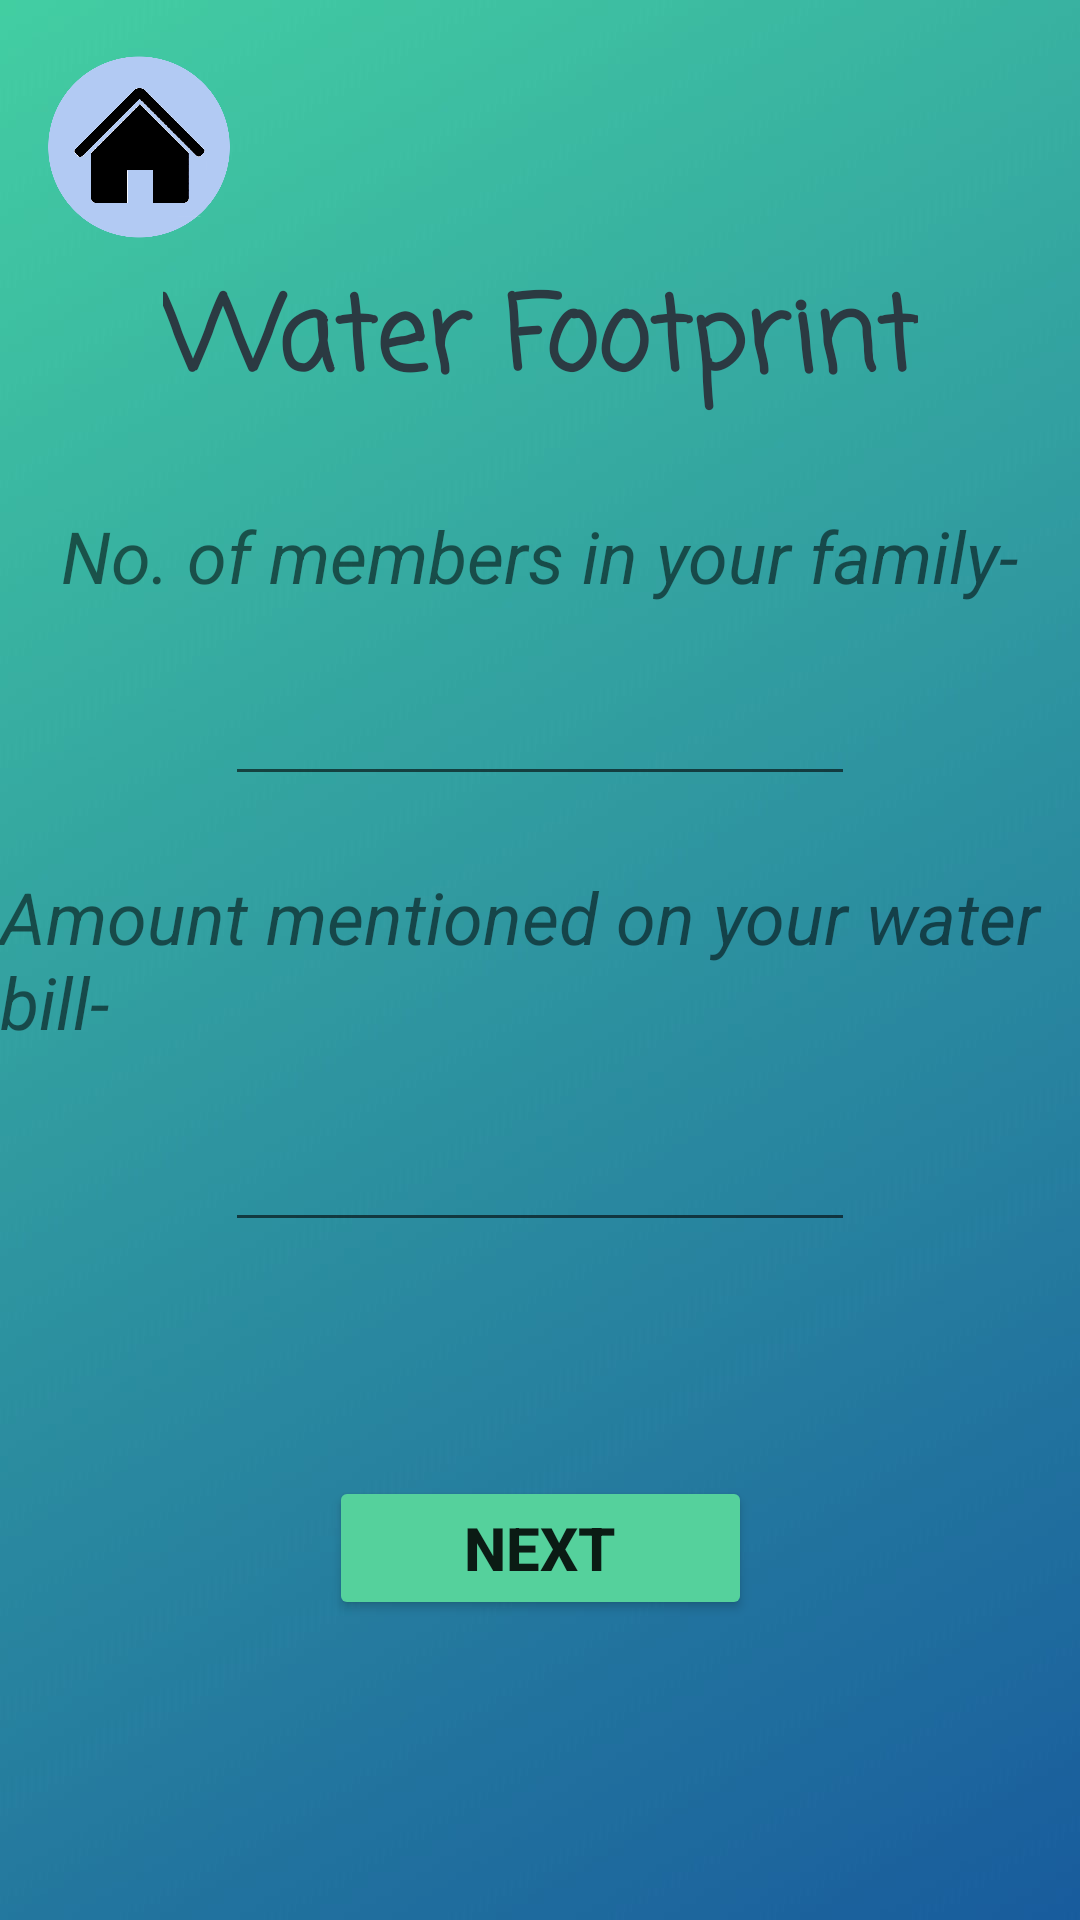

Icons on this 1080*1920 Android screen, each with the point to tap as [x,y]:
home: [139,147]
